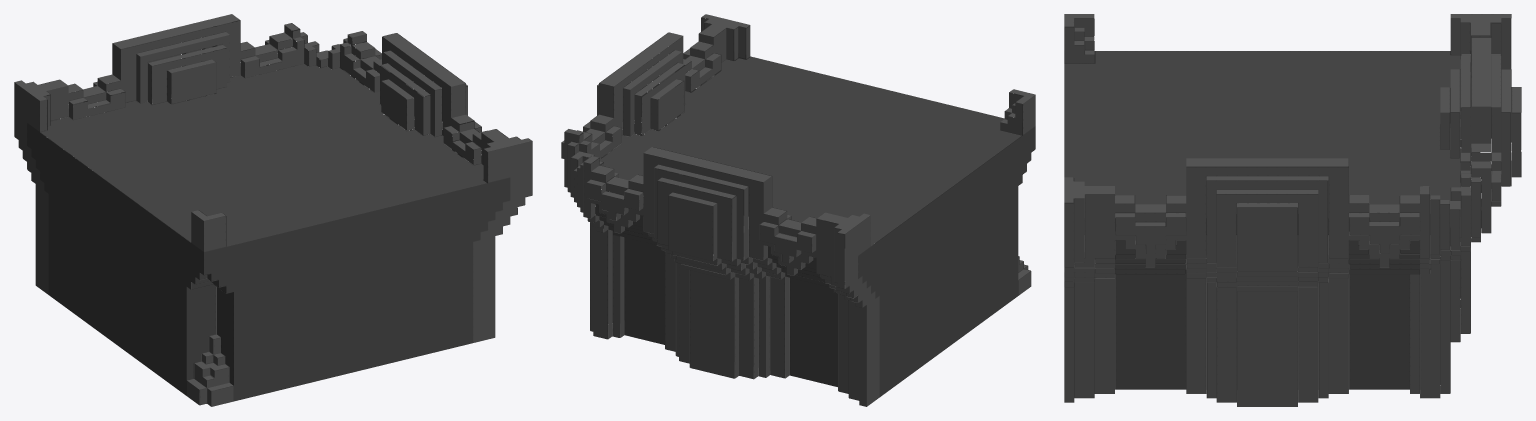
The model's file is CastleWallTopCorner.fbx.
The picture shows the model from 3 angles, left to right: view 1: azimuth 30°, elevation 25°; view 2: azimuth 150°, elevation 25°; view 3: azimuth 270°, elevation 25°; orthographic projection. The views are drawn at different scales.
Visible parts, largest first — view 1: Castle wall top corner; view 2: Castle wall top corner; view 3: Castle wall top corner.
Boxes of the visible parts, <box> form: Castle wall top corner: <box>14,14,532,406</box>; Castle wall top corner: <box>561,14,1035,406</box>; Castle wall top corner: <box>1064,14,1521,406</box>.
Bounding box in the file's own units: 450 × 450 × 270.
